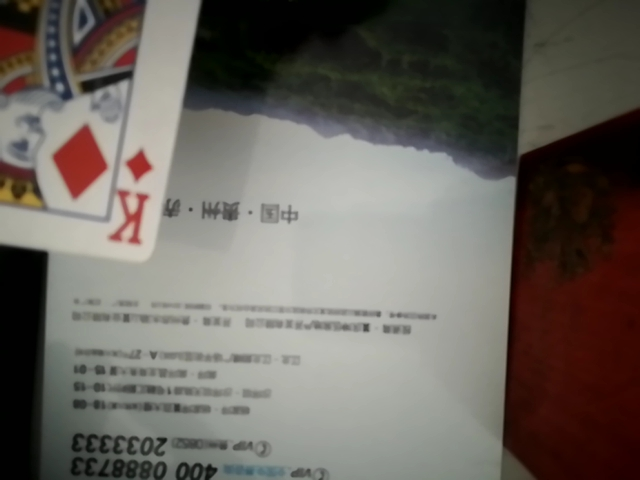fk k: (0, 0, 225, 260)
